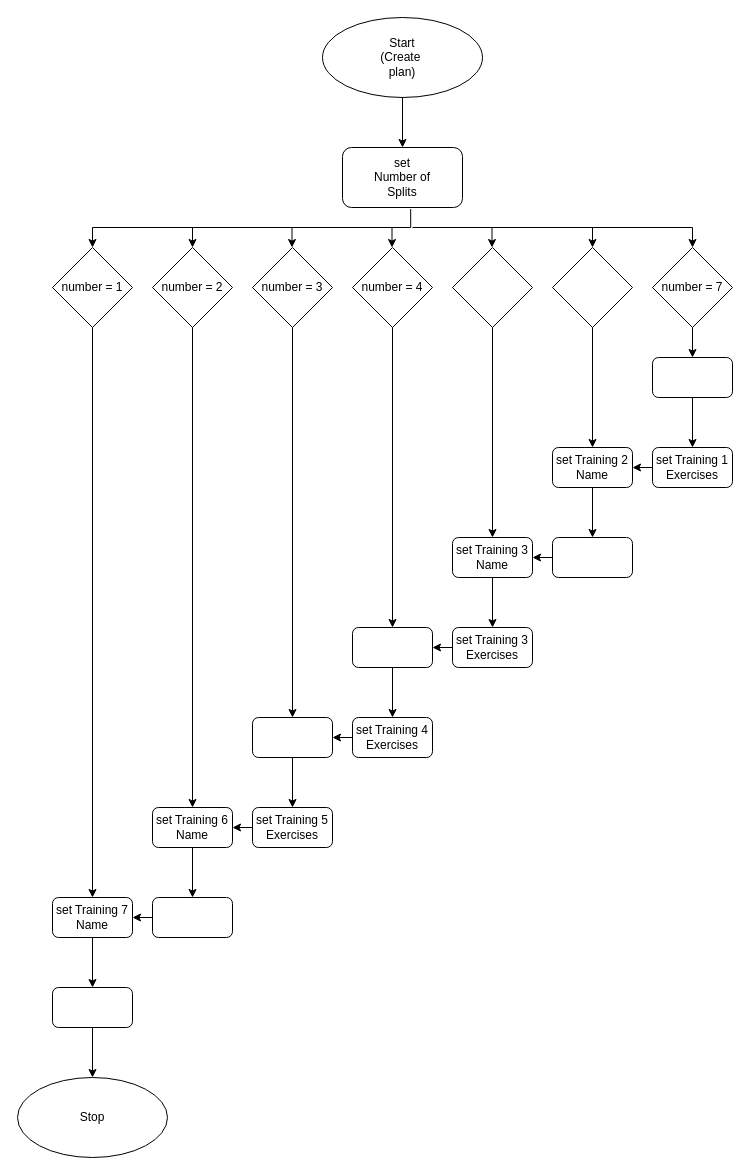
Some shapes in this 750 by 1175 pixel diagram are drawn without their labels. Here are the shapes that lost their labels. From the top down, the box of each, then its label:
(452, 246, 532, 328): number = 5
(552, 246, 632, 328): number = 6
(652, 356, 732, 398): set Training 1 Name
(552, 536, 632, 578): set Training 2 Exercises
(352, 626, 432, 668): set Training 4 Name
(252, 716, 332, 758): set Training 5 Name
(152, 896, 232, 938): set Training 6 Exercises
(52, 986, 132, 1028): set Training 7 Exercises
